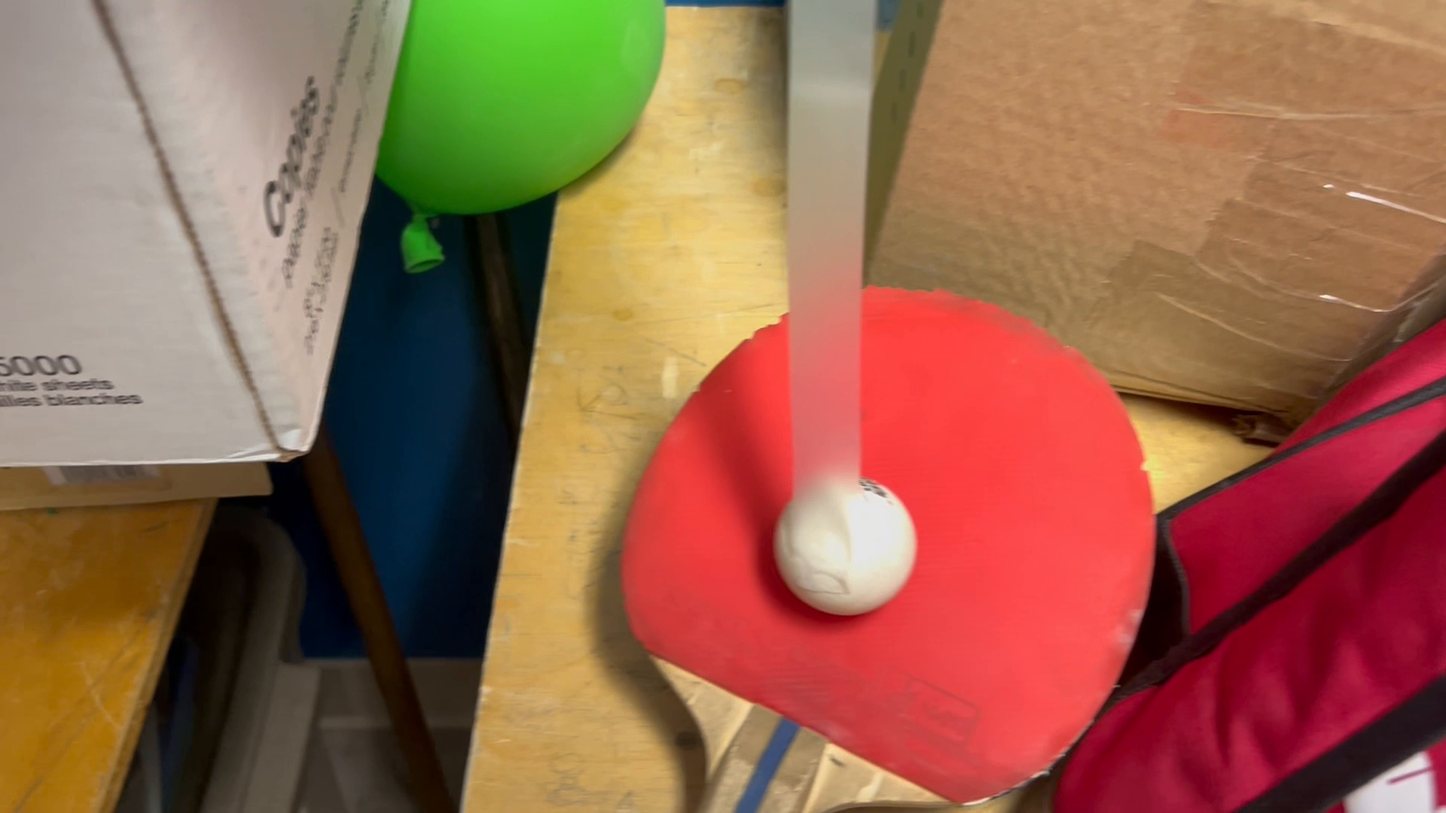Ball: (767, 481, 920, 620)
